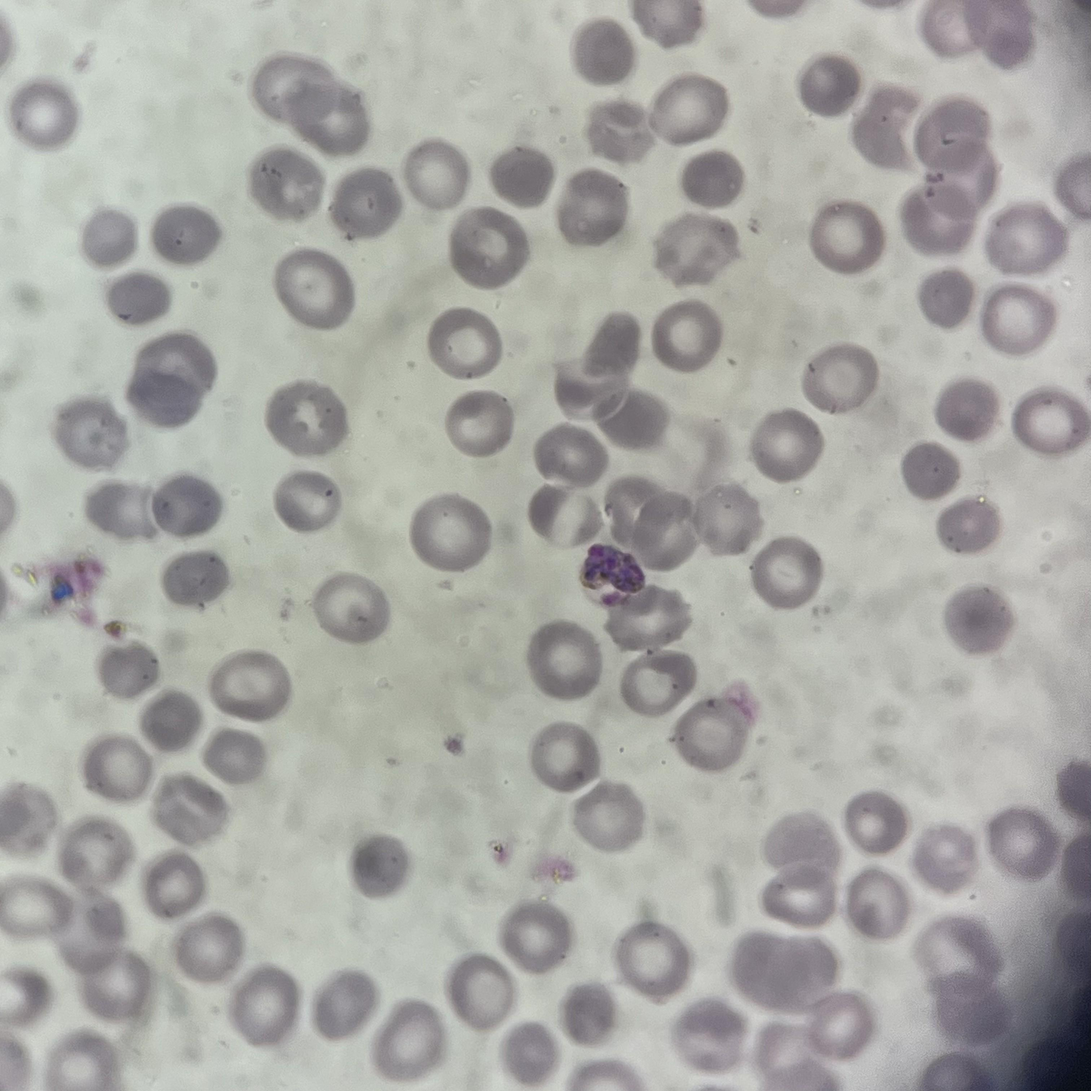Infected: (580, 534, 649, 611)
Uninfected: (727, 931, 834, 1008), (649, 209, 748, 291), (261, 381, 348, 461), (921, 133, 998, 223), (276, 249, 352, 337), (147, 774, 236, 848), (291, 77, 369, 161), (138, 331, 216, 413), (522, 620, 602, 699), (373, 998, 448, 1082), (917, 912, 997, 990), (451, 208, 526, 291), (252, 144, 327, 226), (750, 402, 825, 484), (671, 995, 743, 1080), (1009, 387, 1091, 460), (209, 650, 291, 723), (809, 196, 885, 273), (250, 55, 329, 127), (794, 347, 873, 418), (531, 426, 618, 490), (56, 890, 123, 973), (227, 968, 298, 1046), (48, 405, 129, 473), (448, 950, 516, 1031), (270, 472, 352, 539), (916, 94, 990, 168), (768, 810, 842, 884), (414, 495, 489, 568), (313, 571, 388, 644), (750, 534, 822, 610), (427, 305, 501, 377), (503, 903, 573, 979), (988, 804, 1057, 881), (988, 202, 1064, 271), (328, 163, 400, 235), (311, 972, 383, 1044), (901, 178, 972, 251), (619, 922, 690, 995), (651, 81, 730, 146), (60, 816, 133, 886), (7, 81, 76, 154), (651, 297, 719, 371), (942, 588, 1012, 658), (938, 968, 1007, 1039), (761, 860, 839, 922), (586, 98, 660, 163), (73, 953, 149, 1016), (610, 592, 697, 647), (535, 722, 597, 799), (561, 174, 630, 243), (552, 361, 628, 423), (981, 290, 1057, 352), (856, 85, 912, 169), (628, 495, 694, 566), (0, 778, 61, 854), (444, 392, 511, 461), (569, 19, 638, 86), (623, 650, 695, 714), (806, 985, 870, 1057), (533, 480, 602, 546), (675, 698, 741, 767), (84, 480, 163, 537), (602, 476, 668, 544), (80, 732, 148, 798), (0, 873, 70, 937), (848, 868, 910, 940), (405, 139, 467, 210), (149, 205, 221, 266), (179, 909, 240, 981), (151, 476, 225, 535), (932, 379, 996, 447), (843, 786, 906, 855), (142, 855, 206, 922), (692, 487, 760, 550), (160, 545, 231, 605), (935, 495, 1001, 559), (578, 784, 644, 848), (487, 140, 549, 208), (602, 392, 669, 454), (500, 1017, 558, 1088), (895, 435, 957, 501), (354, 832, 408, 905), (142, 689, 206, 750), (681, 146, 743, 208), (201, 726, 265, 784), (129, 370, 196, 425), (916, 827, 975, 889), (103, 275, 169, 330), (917, 271, 975, 333), (578, 316, 643, 371), (559, 976, 608, 1046), (101, 642, 162, 696), (800, 51, 853, 112), (82, 213, 138, 269)
